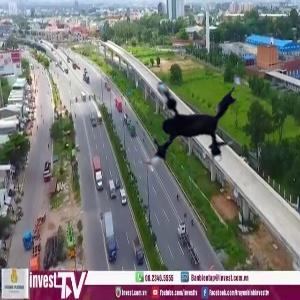drone: (115, 42, 262, 189)
